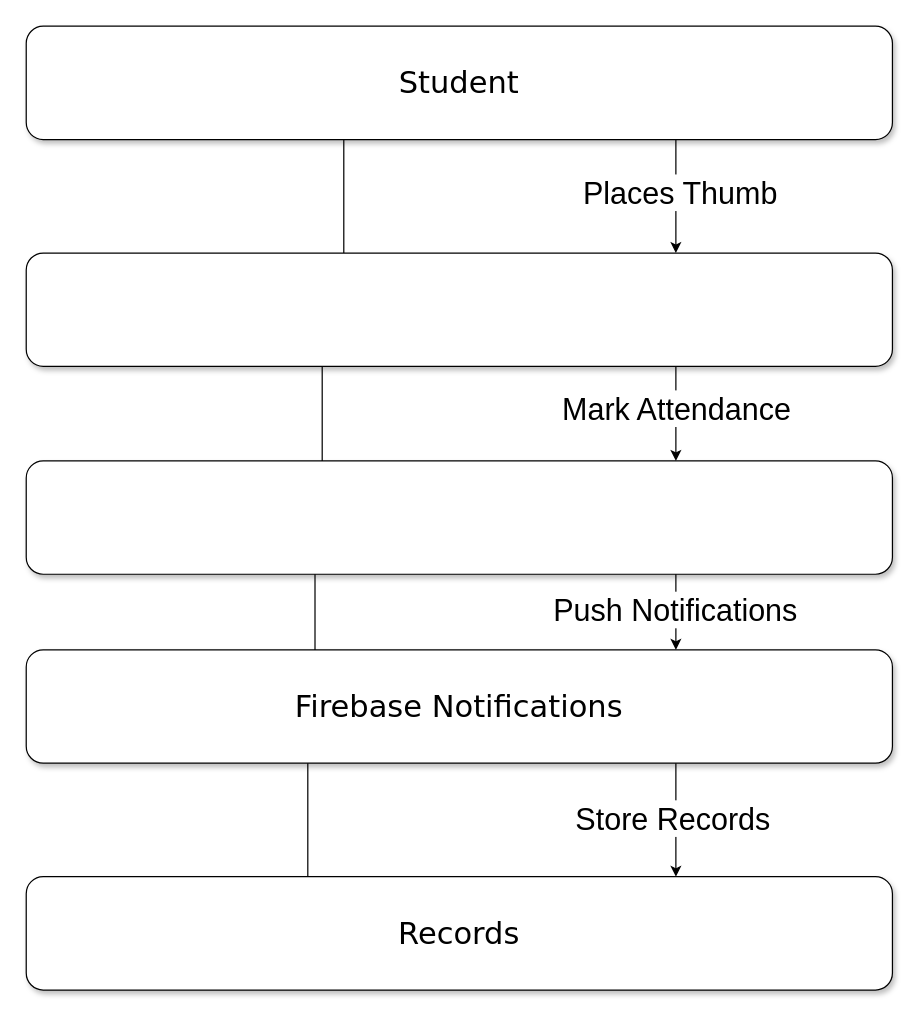
Image size: 921x1020. Some labels were removed from this diagram. The centre of each missing label's shape, as x and y in pixels:
"Academic Management System" belongs at pixel 460 519.
"Bio Metric Scanner" belongs at pixel 460 311.
